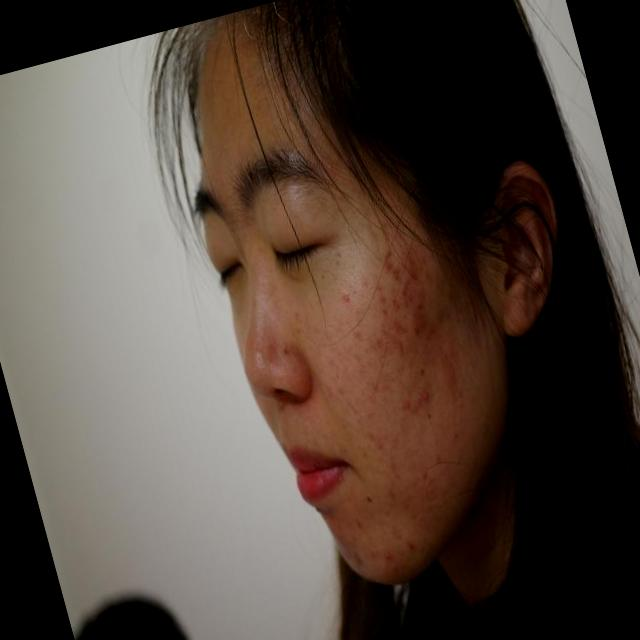acne: (391, 252, 426, 285), (390, 278, 418, 312), (396, 530, 424, 564), (408, 307, 434, 337), (382, 540, 407, 570), (368, 280, 392, 306), (344, 512, 367, 539), (367, 546, 388, 575), (392, 340, 416, 363), (374, 298, 396, 323), (332, 288, 354, 310), (378, 256, 398, 280), (434, 350, 451, 374), (398, 392, 414, 416), (382, 242, 396, 264), (373, 329, 388, 349), (411, 384, 426, 401), (390, 322, 402, 342)
